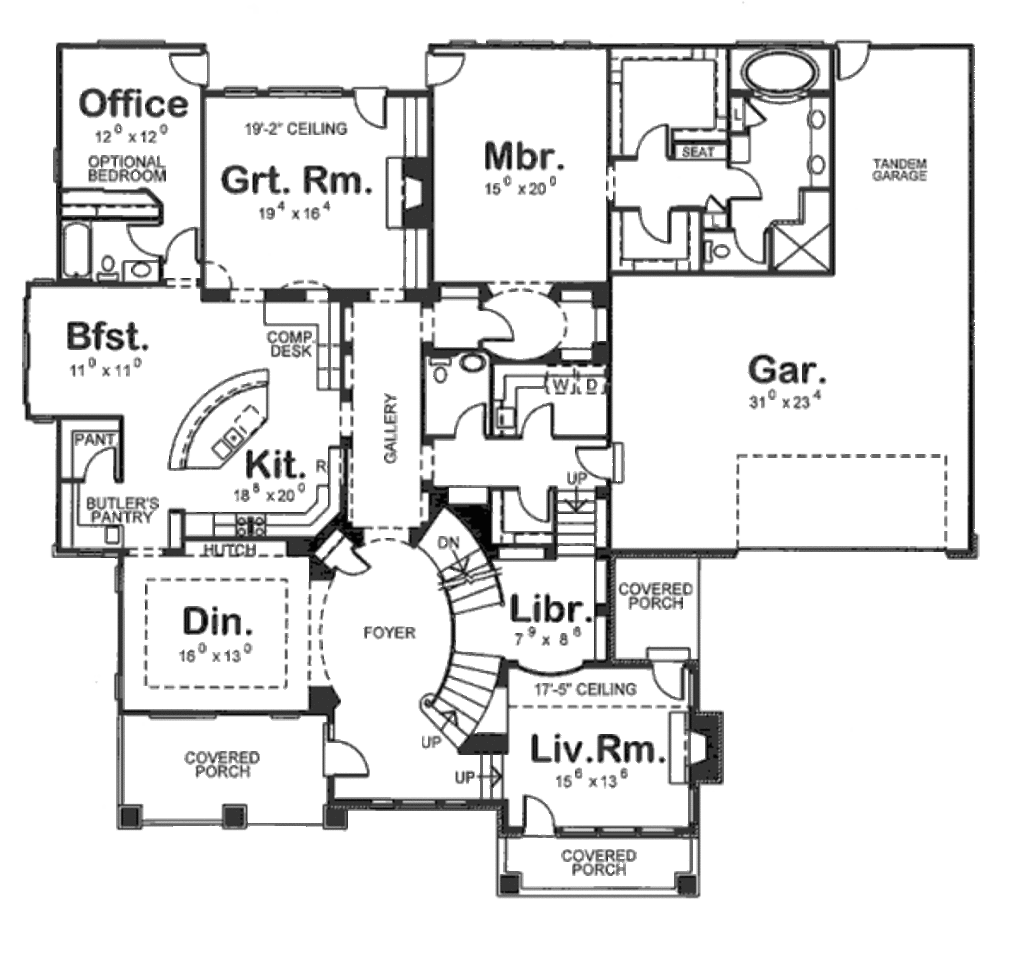door: (161, 39, 225, 96), (642, 641, 692, 713), (323, 726, 382, 784), (574, 437, 638, 484), (421, 43, 476, 95), (160, 216, 207, 274), (468, 296, 519, 347), (512, 787, 559, 842), (727, 162, 783, 207), (62, 443, 122, 482), (353, 78, 392, 135), (628, 112, 674, 159), (446, 396, 490, 445), (726, 221, 770, 268), (515, 484, 558, 529), (633, 203, 678, 243), (125, 219, 168, 260), (515, 397, 555, 440)
kitchen_bar: (150, 364, 279, 484)
large_sink: (702, 236, 735, 272), (90, 242, 117, 280), (427, 353, 450, 385)
small_sink: (803, 92, 839, 188), (119, 256, 162, 282), (456, 347, 493, 374)
stairs: (390, 614, 509, 752), (401, 495, 503, 627), (557, 482, 619, 566)
tub: (60, 217, 90, 286)
twin_sink: (205, 426, 255, 470)
